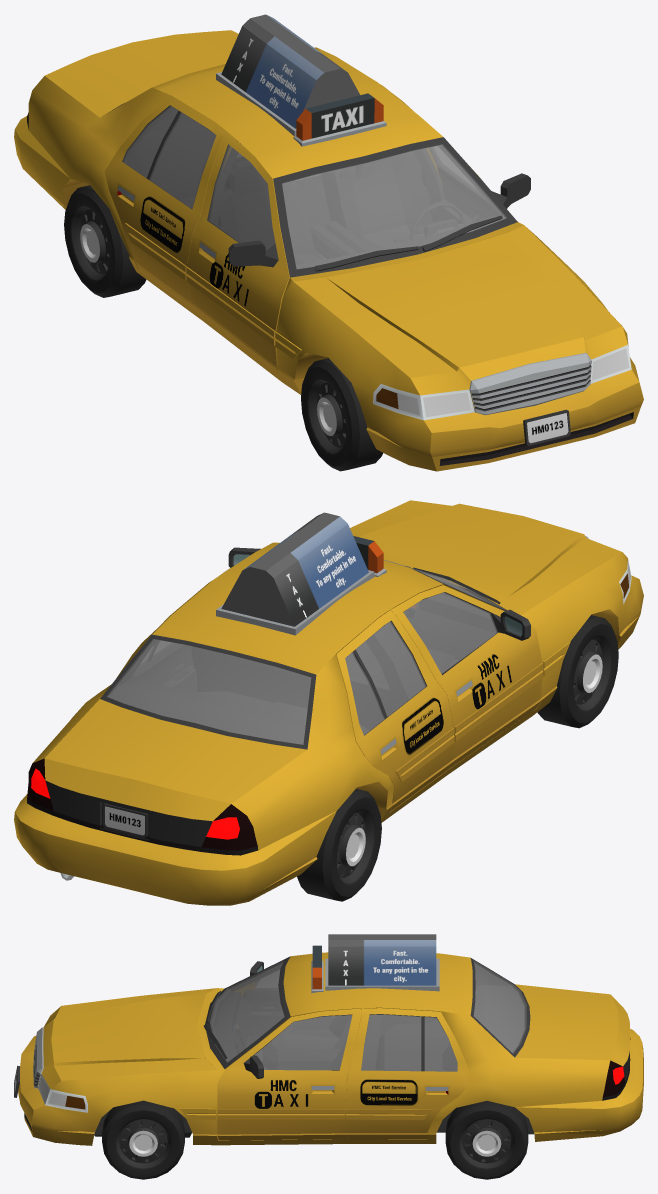
File: Taxi.fbx
3 renders of one model, top to bottom at view 1: azimuth 30°, elevation 25°; view 2: azimuth 150°, elevation 25°; view 3: azimuth 270°, elevation 25°, orthographic. The views are drawn at different scales.
Visible parts, largest first — view 1: Taxi_base, Taxi_Hood, TDoor_FR, TDoor_BR, Taxi_Decal, Taxi_trunk, T_WheelFR, T_Wheels_B, TDoor_FL, Taxi_steering_wheel; view 2: Taxi_base, Taxi_trunk, Taxi_Hood, TDoor_FR, TDoor_BR, Taxi_Decal, T_Wheels_B, T_WheelFR, TDoor_BL; view 3: Taxi_base, TDoor_FL, TDoor_BL, Taxi_Hood, Taxi_trunk, Taxi_Decal, T_Wheels_B, T_WheelFL, TDoor_FR, TDoor_BR.
Part boxes in pixels (box(x1,y1,x2,y2)): Taxi_base: box(14, 47, 643, 471); Taxi_Hood: box(294, 225, 621, 377); TDoor_FR: box(186, 133, 289, 374); TDoor_BR: box(104, 97, 227, 308); Taxi_Decal: box(216, 14, 359, 136); Taxi_trunk: box(45, 30, 238, 117); T_WheelFR: box(301, 358, 382, 471); T_Wheels_B: box(64, 185, 146, 297); TDoor_FL: box(393, 94, 530, 224); Taxi_steering_wheel: box(409, 202, 465, 240); Taxi_base: box(14, 507, 643, 905); Taxi_trunk: box(44, 699, 306, 851); Taxi_Hood: box(350, 500, 621, 613); TDoor_FR: box(391, 585, 543, 771); TDoor_BR: box(336, 610, 454, 811); Taxi_Decal: box(216, 512, 374, 635); T_Wheels_B: box(297, 789, 381, 901); T_WheelFR: box(537, 615, 618, 728); TDoor_BL: box(132, 580, 212, 691); Taxi_base: box(14, 945, 643, 1145); TDoor_FL: box(217, 1008, 361, 1140); TDoor_BL: box(345, 1008, 469, 1139); Taxi_Hood: box(51, 988, 216, 1080); Taxi_trunk: box(515, 984, 630, 1085); Taxi_Decal: box(325, 934, 439, 991); T_Wheels_B: box(445, 1101, 528, 1179); T_WheelFL: box(102, 1100, 184, 1179); TDoor_FR: box(234, 961, 333, 1047); TDoor_BR: box(379, 1015, 435, 1037).
Size of the model in its own units: 84.97 by 73.42 by 213.
